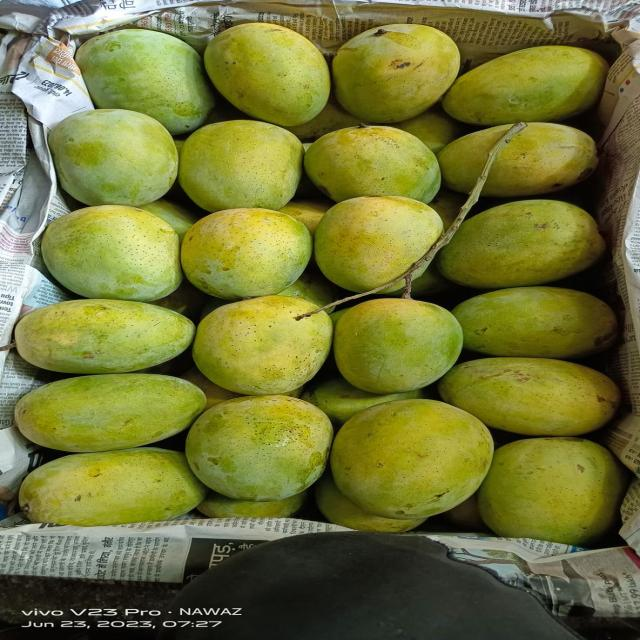mango: (331, 400, 492, 519), (479, 438, 628, 545), (186, 396, 332, 501), (15, 374, 206, 452), (437, 200, 605, 288), (20, 448, 206, 526), (76, 29, 214, 134), (438, 358, 620, 436), (194, 296, 332, 395), (42, 206, 181, 301), (443, 46, 608, 126), (15, 300, 194, 373), (204, 23, 330, 126), (48, 109, 177, 206), (332, 25, 459, 122), (315, 197, 443, 292), (334, 299, 462, 393), (452, 287, 618, 359), (182, 209, 312, 299), (179, 121, 303, 212), (304, 126, 440, 202), (482, 123, 597, 197), (315, 473, 425, 532), (302, 377, 424, 426), (285, 95, 369, 141), (394, 107, 466, 154), (197, 491, 307, 517), (150, 279, 210, 320), (182, 368, 242, 409), (182, 368, 242, 408), (140, 200, 198, 241), (278, 271, 335, 307), (280, 200, 333, 236), (443, 492, 487, 532), (205, 93, 254, 124), (430, 188, 466, 229), (411, 264, 452, 299), (294, 168, 324, 200), (200, 296, 230, 320), (330, 309, 348, 327)
